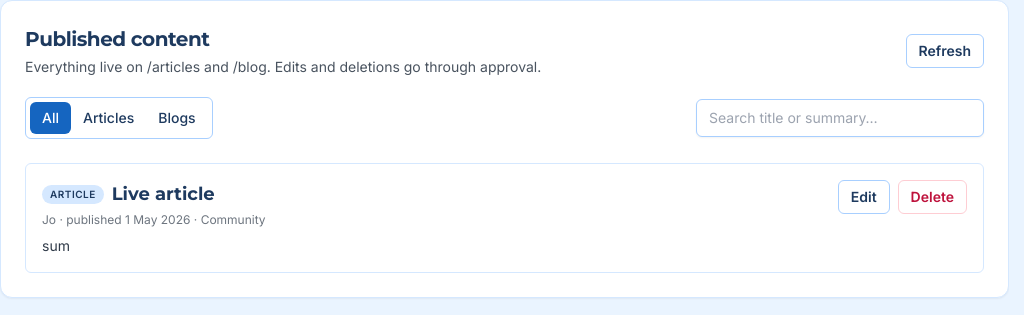
PublishedContent › deletes an item as admin after confirmation
This screenshot has width=1024, height=315.
Click the button "Delete" at coordinates (932, 197), box [898,180,967,214]
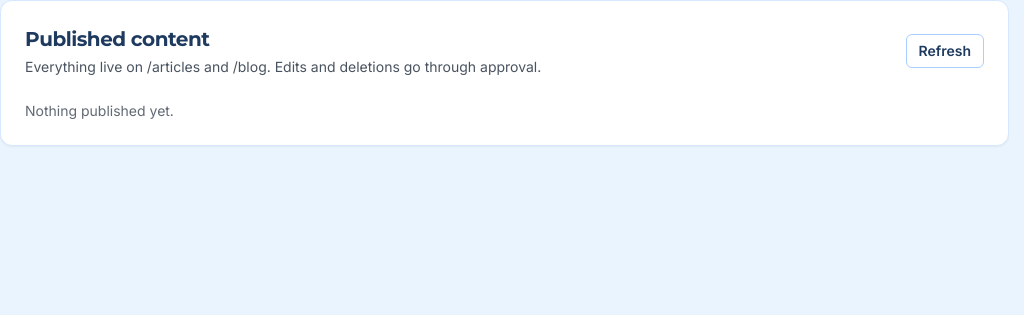
Expected: the text "Live article" is gone
